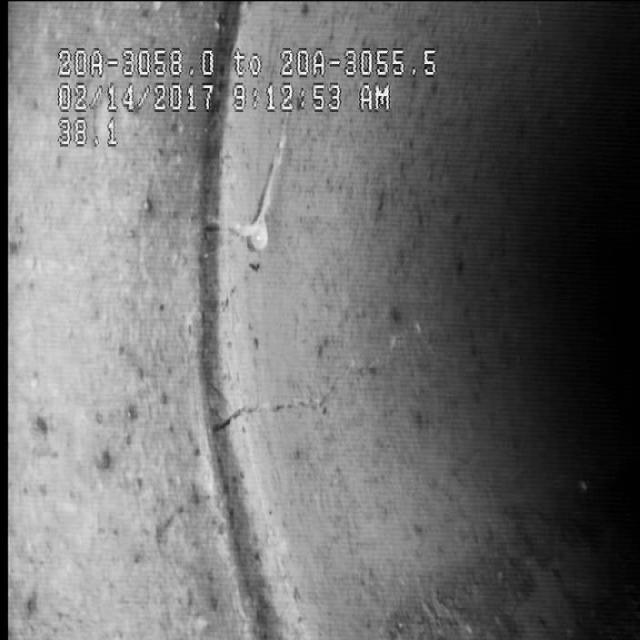Crack: (213, 305, 403, 469)
